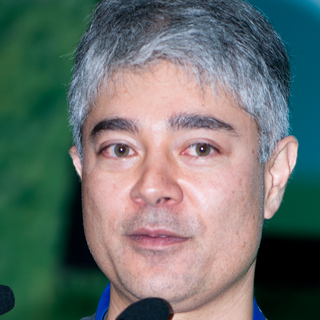eye: (180, 139, 227, 163), (99, 139, 143, 164)
